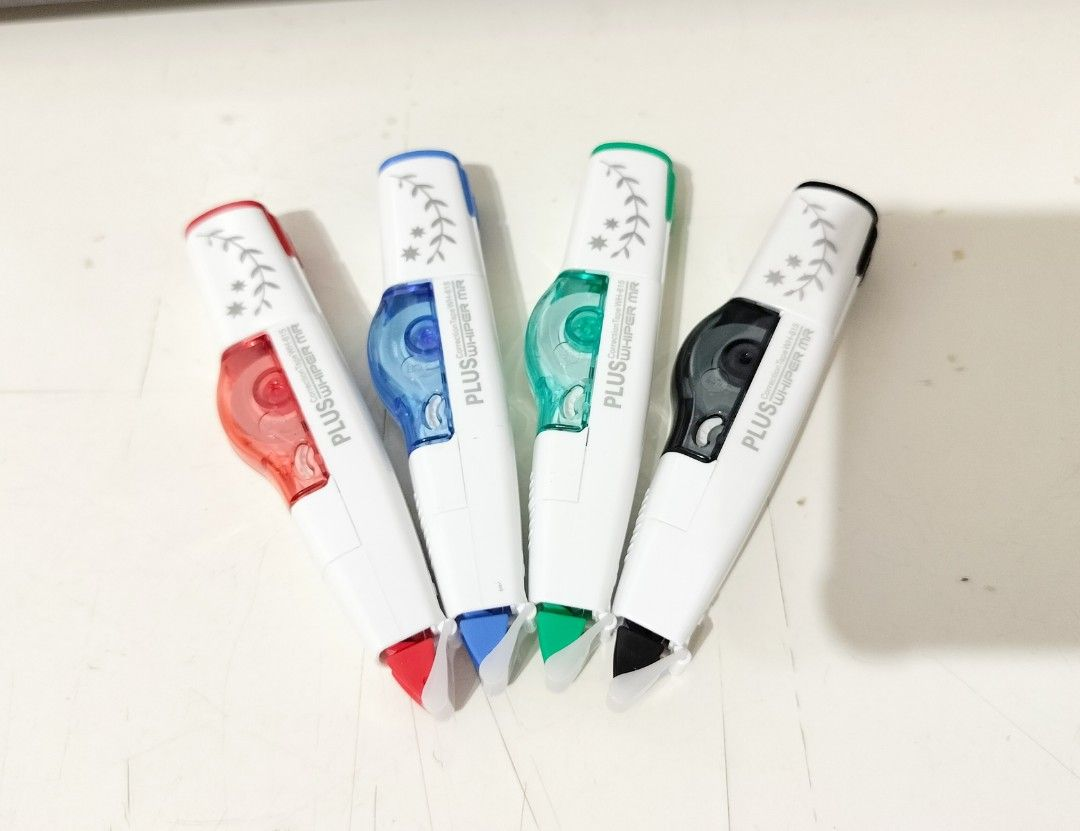correction tape: (184, 200, 458, 745), (613, 181, 881, 711), (366, 152, 539, 694), (523, 141, 674, 690)
